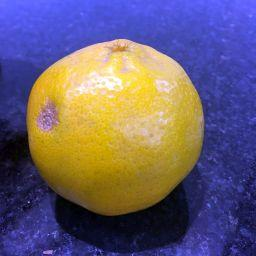Ripe: (30, 43, 207, 213)
